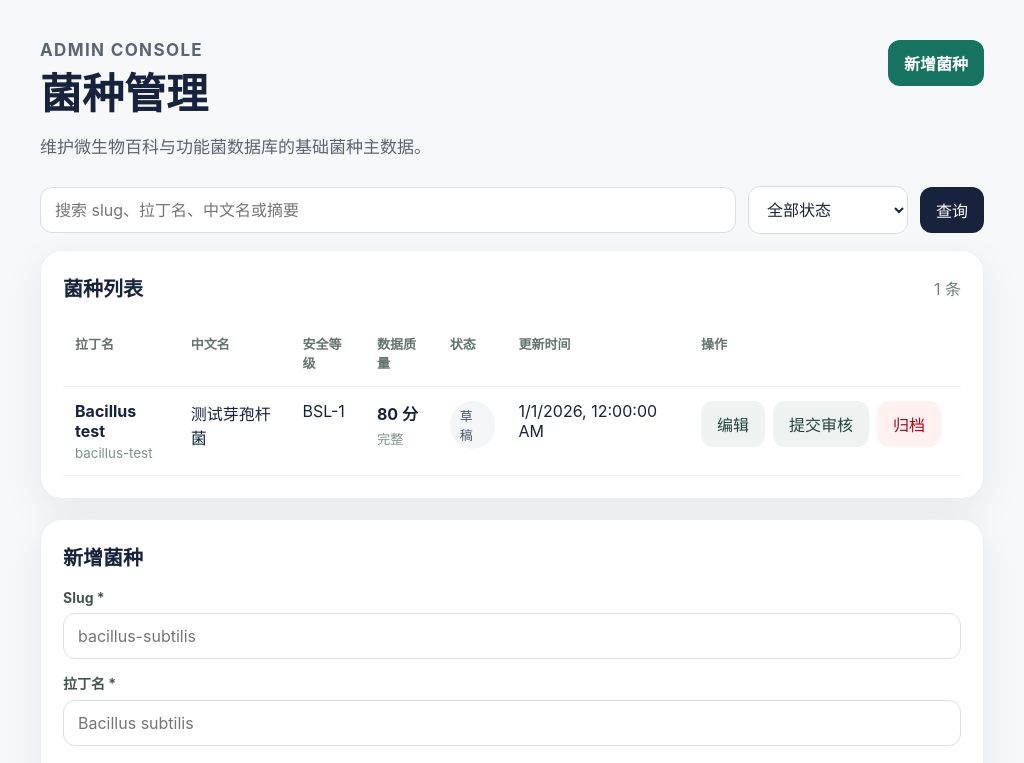
SpeciesManagement › 支持提交发布审核和归档
The width and height of the screenshot is (1024, 763).
Click the button "提交审核" at (821, 424), box [773, 401, 869, 447]
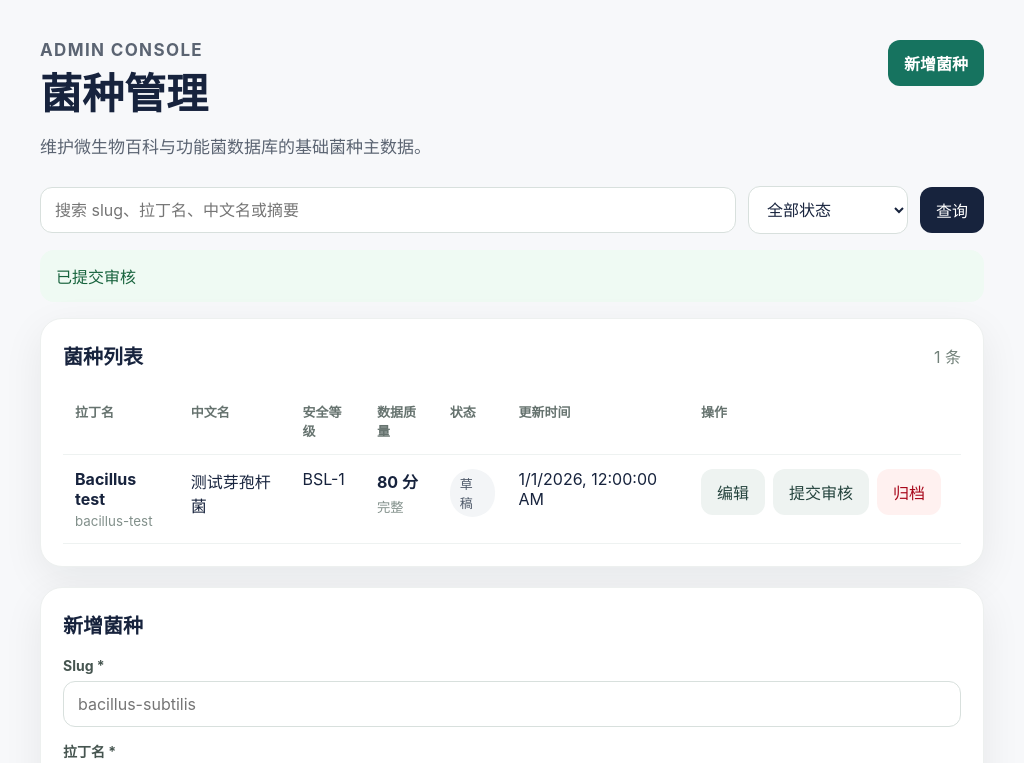
Check: the text "已提交审核" is shown, box [40, 250, 984, 302]
Click the button "归档" at (909, 492), box [877, 469, 941, 515]
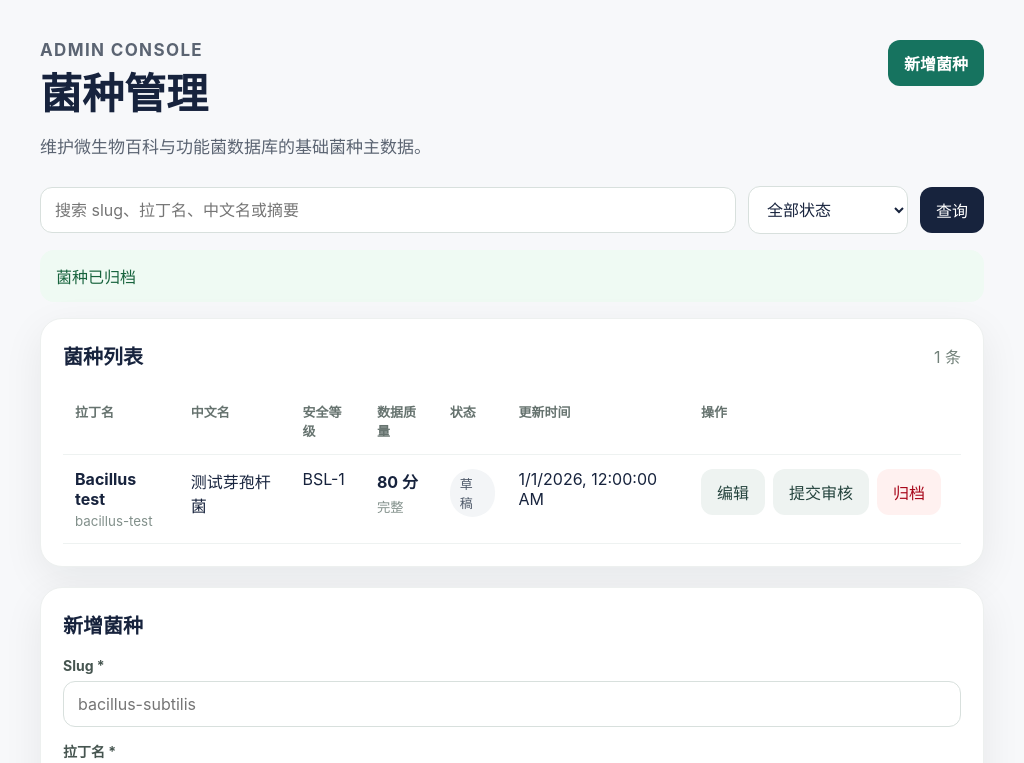
Check: the text "菌种已归档" is shown, box [40, 250, 984, 302]
